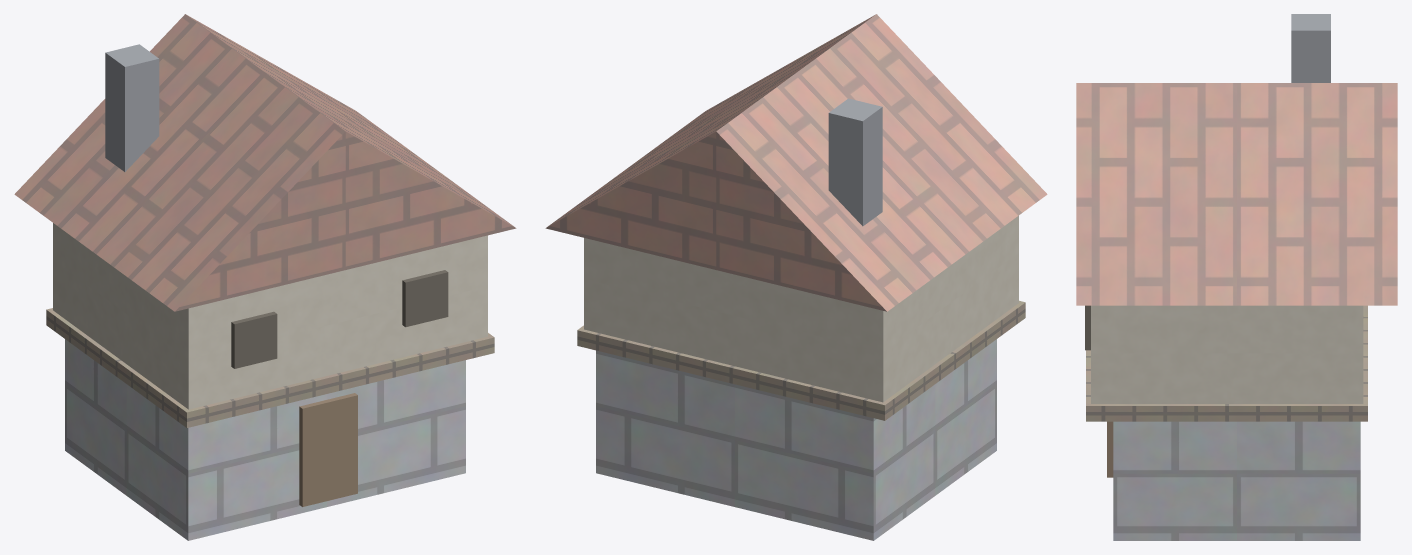
Rendered from hall.glb.
3 views of the same model, side by side, from view 1: azimuth 30°, elevation 25°; view 2: azimuth 150°, elevation 25°; view 3: azimuth 270°, elevation 25° (orthographic).
Parts seen in each view (by area): view 1: hall roof, hall ground, hall upper, hall beam, hall door, hall chimney, hall window 1, hall window 2; view 2: hall roof, hall ground, hall upper, hall beam, hall chimney; view 3: hall roof, hall ground, hall upper, hall beam, hall chimney, hall door.
Boxes of the visible parts, box(x1,y1,x2,y2) form: hall roof: box(14, 14, 516, 311); hall ground: box(65, 339, 465, 540); hall upper: box(53, 223, 487, 409); hall beam: box(46, 308, 494, 427); hall door: box(299, 393, 357, 506); hall chimney: box(105, 44, 159, 171); hall window 1: box(231, 311, 277, 368); hall window 2: box(402, 270, 448, 327); hall roof: box(545, 14, 1047, 311); hall ground: box(596, 339, 996, 540); hall upper: box(584, 215, 1018, 402); hall beam: box(577, 300, 1025, 420); hall chimney: box(828, 98, 882, 226); hall roof: box(1076, 83, 1397, 305); hall ground: box(1113, 421, 1360, 540); hall upper: box(1091, 305, 1363, 403); hall beam: box(1086, 305, 1367, 421); hall chimney: box(1291, 14, 1330, 82); hall door: box(1107, 421, 1113, 477).
Bounding box in the file's own units: 1.6 × 1.8 × 1.3.
Materials: 8 (4 with a texture image).
